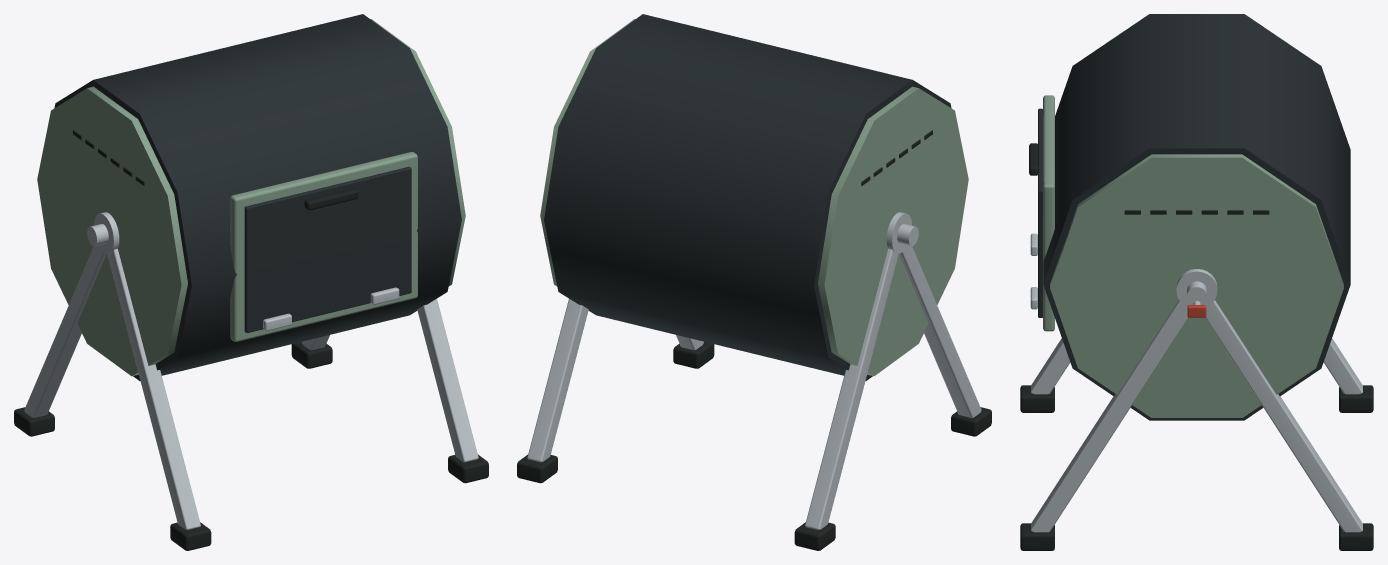
File: compost-tumbler.glb
3 views of the same model, side by side, from view 1: azimuth 30°, elevation 25°; view 2: azimuth 150°, elevation 25°; view 3: azimuth 270°, elevation 25° (orthographic).
Visible parts, largest first — view 1: compost-tumbler authored assembly; view 2: compost-tumbler authored assembly; view 3: compost-tumbler authored assembly.
Boxes of the visible parts, x1,y1,x2,y2 form: compost-tumbler authored assembly: [14, 14, 488, 550]; compost-tumbler authored assembly: [517, 14, 991, 550]; compost-tumbler authored assembly: [1020, 14, 1373, 550].
Size of the model in its own units: 0.95 by 1.05 by 0.85.
